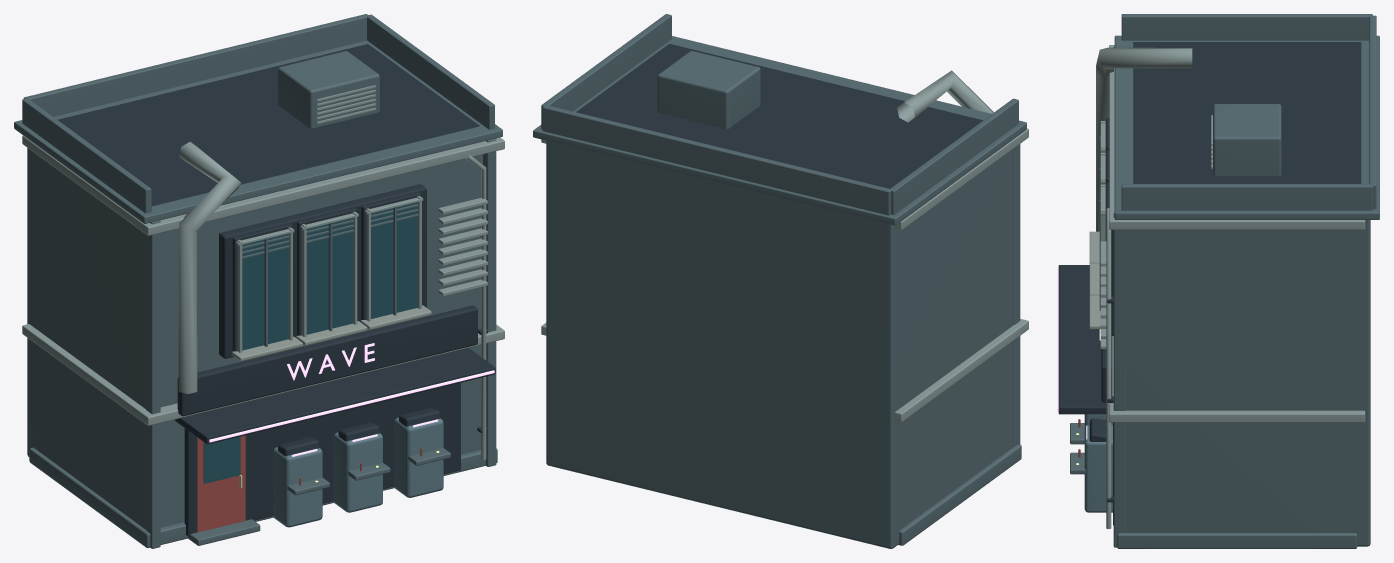
The model's file is onda_arcade.glb.
3 renders of one model, left to right at view 1: azimuth 30°, elevation 25°; view 2: azimuth 150°, elevation 25°; view 3: azimuth 270°, elevation 25°, orthographic.
Parts seen in each view (by area): view 1: Steel, Ink, Edge, Glass, Blue, Red, Plaster, Rose; view 2: Steel, Ink, Edge; view 3: Steel, Ink, Edge, Blue, Plaster.
Part boxes in pixels (<box>): Steel: <box>14,14,502,548</box>; Ink: <box>57,44,495,536</box>; Edge: <box>22,85,504,459</box>; Glass: <box>203,202,417,483</box>; Blue: <box>272,417,443,527</box>; Red: <box>197,435,422,532</box>; Plaster: <box>232,305,431,361</box>; Rose: <box>209,343,494,456</box>; Steel: <box>533,14,1026,548</box>; Ink: <box>576,44,982,188</box>; Edge: <box>541,70,1028,422</box>; Steel: <box>1070,14,1379,548</box>; Ink: <box>1058,42,1361,525</box>; Edge: <box>1096,45,1365,529</box>; Blue: <box>1084,414,1112,512</box>; Plaster: <box>1089,231,1100,329</box>.
Size of the model in its own units: 9.2 by 9.1 by 7.06.
